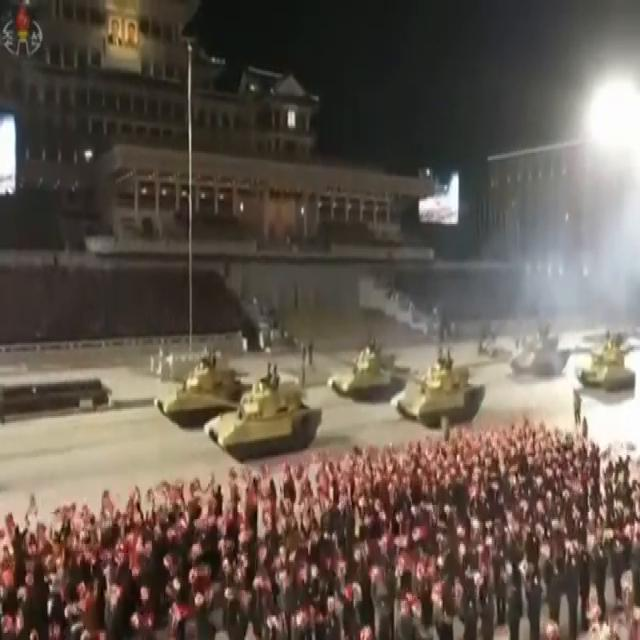north tank: (203, 366, 327, 460), (384, 347, 496, 447), (146, 338, 244, 432), (324, 326, 407, 414), (567, 342, 640, 411)
